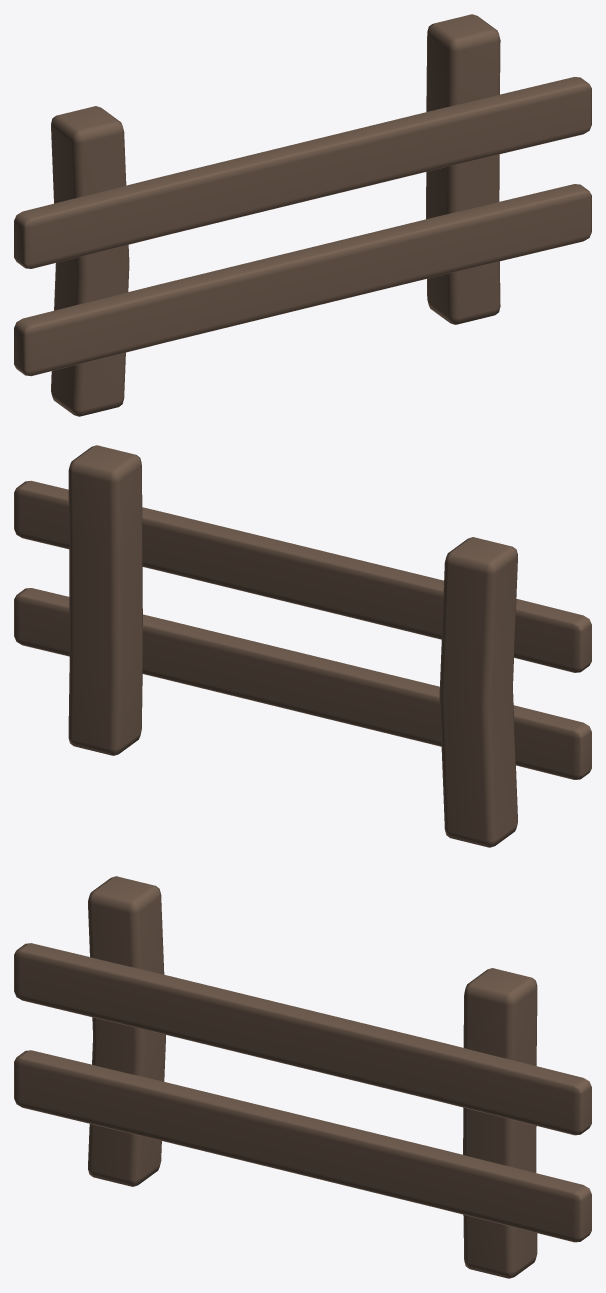
File: FenceA.fbx
The picture shows the model from 3 angles, top to bottom: view 1: azimuth 30°, elevation 25°; view 2: azimuth 150°, elevation 25°; view 3: azimuth 330°, elevation 25°; orthographic projection.
Parts seen in each view (by area): view 1: FenceA; view 2: FenceA; view 3: FenceA.
Boxes of the visible parts, box(x1,y1,x2,y2) form: FenceA: box(14, 14, 591, 416); FenceA: box(14, 445, 591, 847); FenceA: box(14, 876, 591, 1278).
Bounding box in the file's own units: 166 × 79.99 × 19.72.
